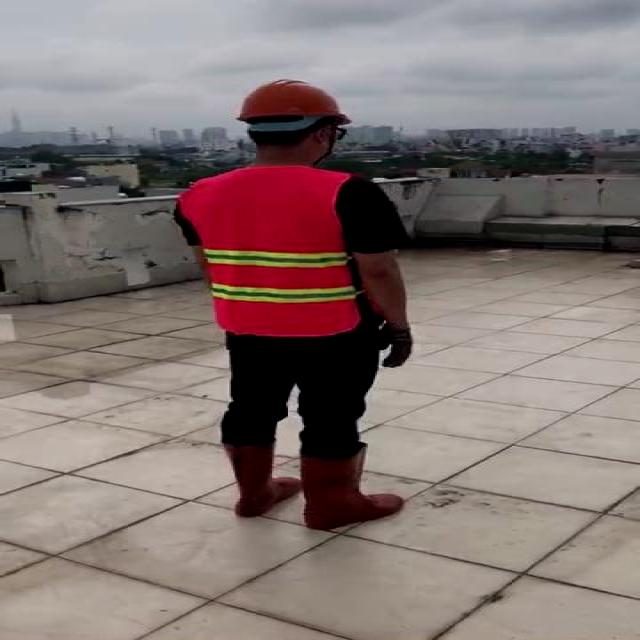boots: (297, 449, 402, 530), (220, 443, 302, 515)
hand_glove: (373, 325, 418, 367)
head_helmet: (230, 76, 355, 125)
person: (162, 75, 428, 534)
vest: (185, 166, 352, 335)
